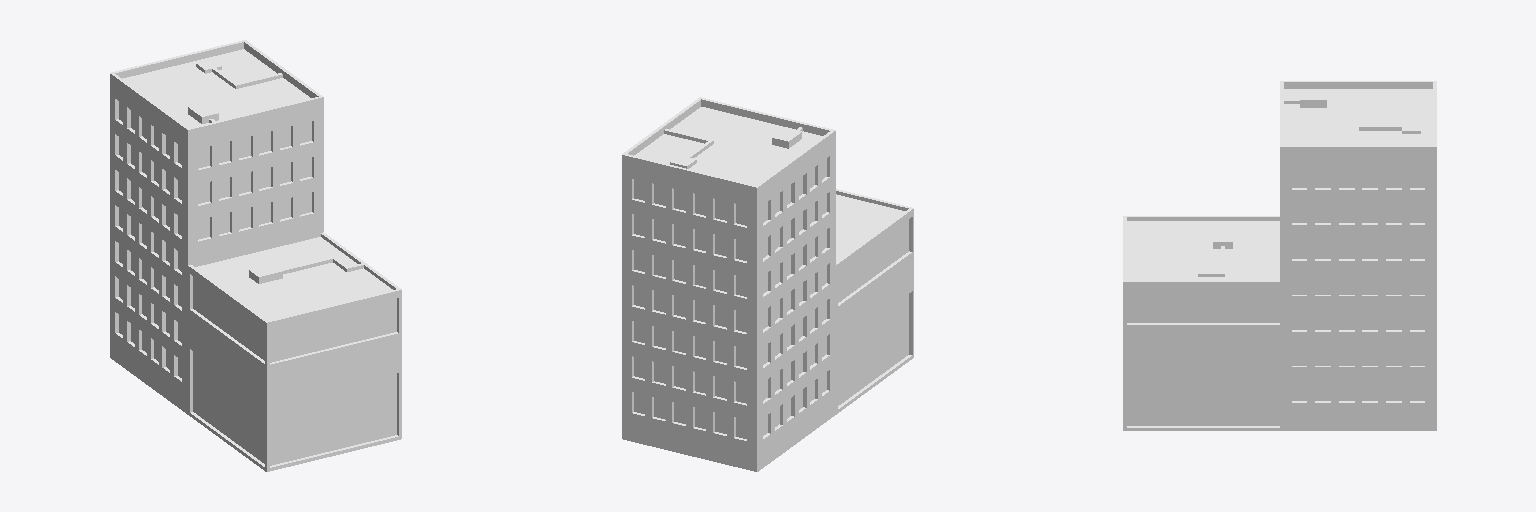
The model's file is Asset-18.obj.
3 views of the same model, side by side, from view 1: azimuth 30°, elevation 25°; view 2: azimuth 150°, elevation 25°; view 3: azimuth 270°, elevation 25° (orthographic).
Visible parts, largest first — view 1: Asset-18; view 2: Asset-18; view 3: Asset-18.
Part boxes in pixels (bbox=[...]): Asset-18: bbox=[110, 40, 401, 471]; Asset-18: bbox=[622, 97, 913, 471]; Asset-18: bbox=[1123, 81, 1436, 430].
Size of the model in its own units: 40 by 80 by 80.